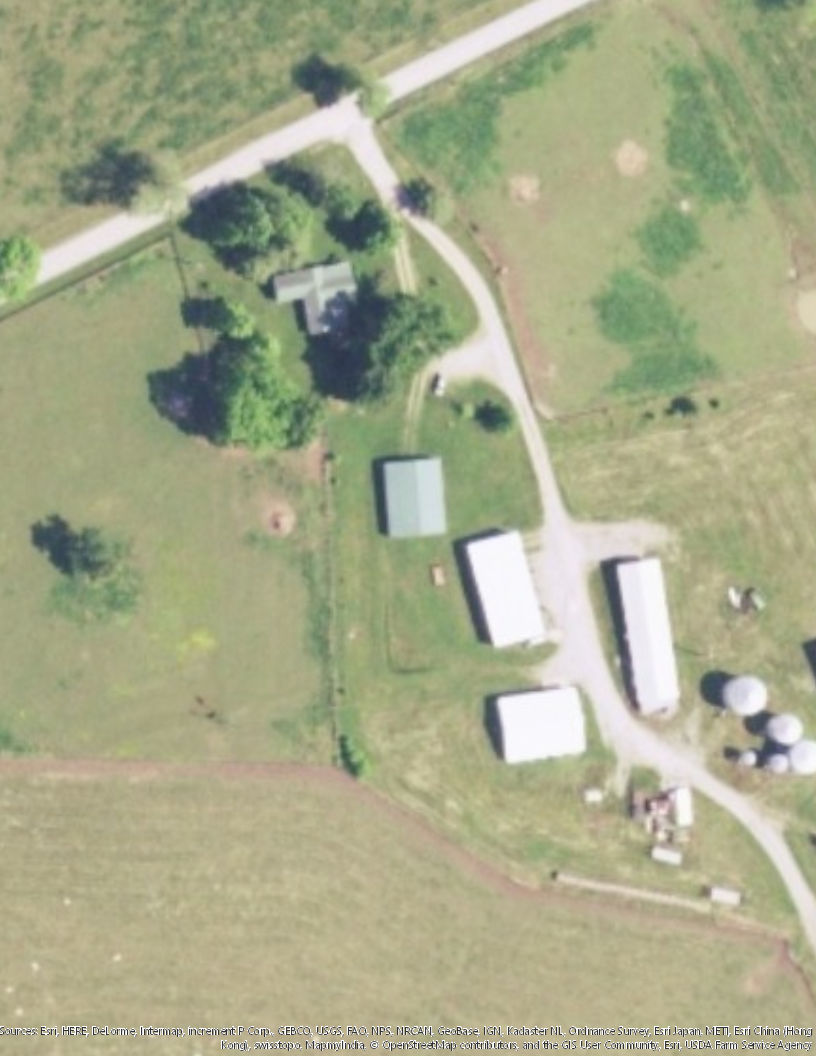cafo: (455, 521, 569, 652), (613, 548, 692, 719), (494, 681, 595, 772), (377, 453, 456, 548)
